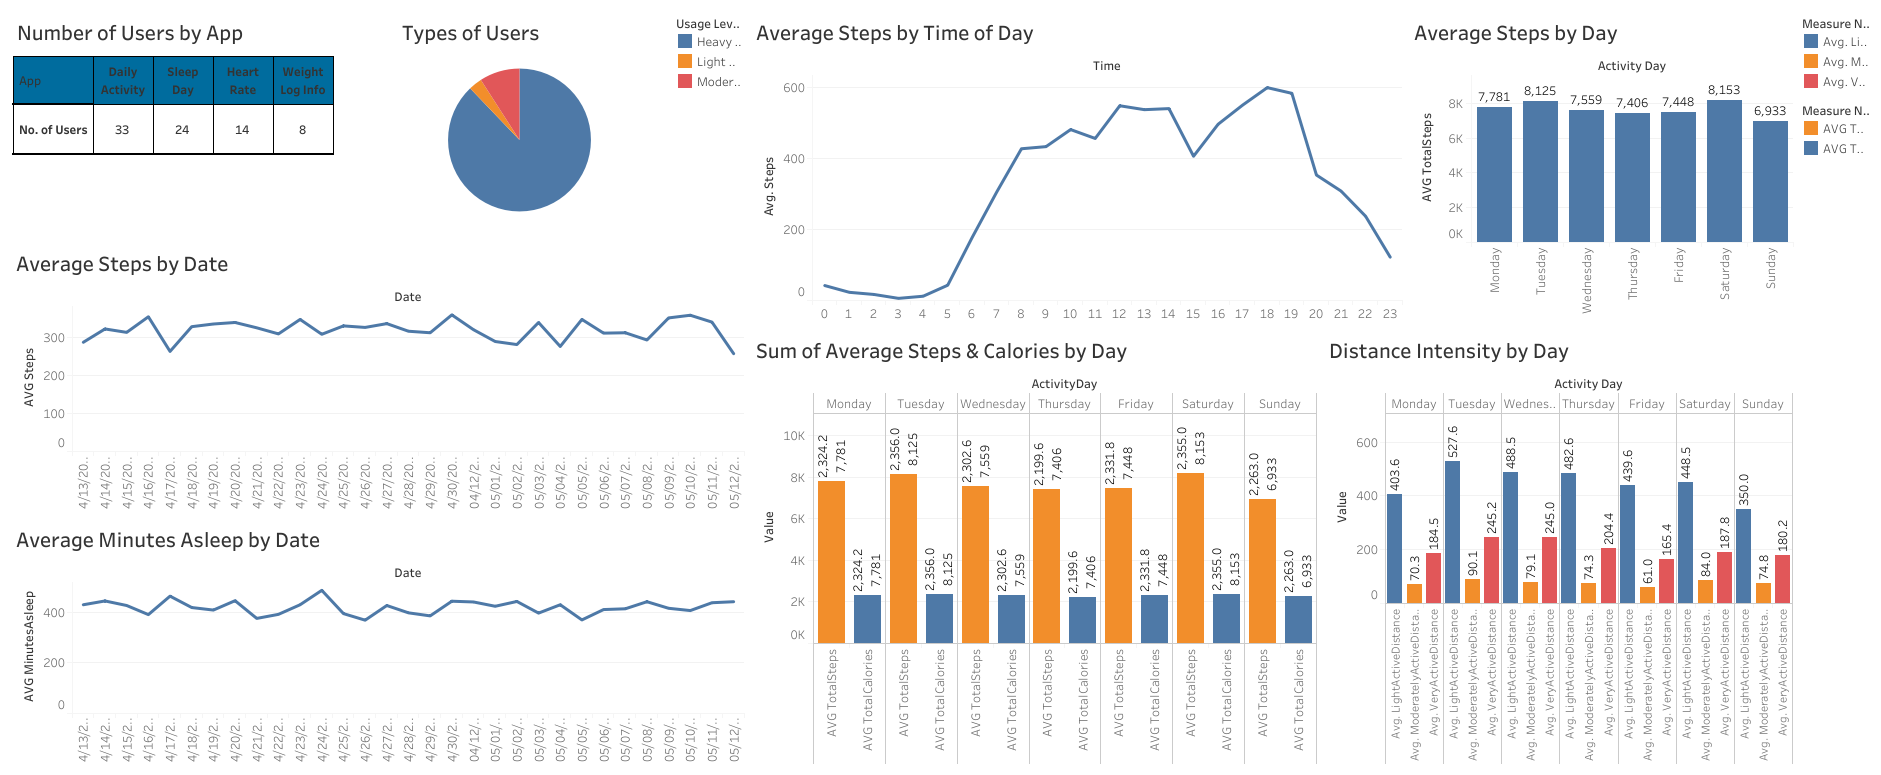

The dashboard page shown, as its layout file describes it:
{"tool":"tableau","page":{"name":"Dashboard 1","canvas":[1000,1000],"units":"permille","ordinal":0},"visuals":[{"type":"worksheet","title":"Sheet 1","mark":"Automatic","rows":["App"],"box":[4.7,8.8,203.8,298.7]},{"type":"worksheet","title":"Sheet 2","mark":"Pie","box":[208.5,8.8,146.7,298.7]},{"type":"legend","title":"Sheet 2","param":"[federated.0bqqcs00ep6goi1cfges51h0j89j].[none:Usage_Level:nk]","box":[355.2,8.8,40.4,298.7]},{"type":"worksheet","title":"Sheet 3","mark":"Automatic","rows":["AVG_Steps"],"cols":["Time"],"box":[395.6,8.8,347.9,410.4]},{"type":"worksheet","title":"Sheet 4","mark":"Automatic","rows":["AVG_TotalSteps"],"cols":["ActivityDay"],"box":[743.4,8.8,206.8,410.4]},{"type":"legend","title":"Sheet 7","param":"[federated.1m2c1ob1dhjz7c1f3mcfi1ecgxqe].[:Measure Names]","box":[950.3,8.8,45.1,95.1]},{"type":"legend","title":"Sheet 5","param":"[federated.1vi7c130cem6fk14s94jl0roml1s].[:Measure Names]","box":[950.3,104,45.1,73]},{"type":"worksheet","title":"Sheet 9","mark":"Line","rows":["AVG_Steps"],"cols":["Date"],"box":[4.7,307.5,390.9,356.2]},{"type":"worksheet","title":"Sheet 5","mark":"Automatic","cols":["ActivityDay (Calories!Day)"],"box":[395.6,419.2,303.1,571.9]},{"type":"worksheet","title":"Sheet 7","mark":"Bar","cols":["ActivityDay"],"box":[698.6,419.2,251.6,571.9]},{"type":"worksheet","title":"Sheet 8","mark":"Line","rows":["AVG_MinutesAsleep"],"cols":["Date"],"box":[4.7,663.7,390.9,327.4]}]}

Visuals, with their boxes on the dashboard's canvas, which has no fixed pixel size, in thousandths of its width and height (x1, y1, x2, y2). These are canvas units, not pixel positions in the 1881x775 screenshot, which may show the page scaled, cropped or inside an application window:
"Sheet 1" worksheet: left=5, top=9, right=208, bottom=308
"Sheet 2" worksheet (Pie marks): left=208, top=9, right=355, bottom=308
"Sheet 2" legend: left=355, top=9, right=396, bottom=308
"Sheet 3" worksheet: left=396, top=9, right=744, bottom=419
"Sheet 4" worksheet: left=743, top=9, right=950, bottom=419
"Sheet 7" legend: left=950, top=9, right=995, bottom=104
"Sheet 5" legend: left=950, top=104, right=995, bottom=177
"Sheet 9" worksheet (Line marks): left=5, top=308, right=396, bottom=664
"Sheet 5" worksheet: left=396, top=419, right=699, bottom=991
"Sheet 7" worksheet (Bar marks): left=699, top=419, right=950, bottom=991
"Sheet 8" worksheet (Line marks): left=5, top=664, right=396, bottom=991
